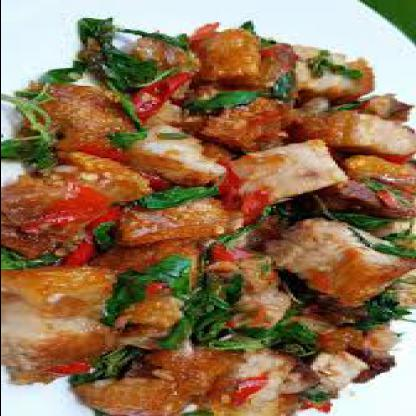Basil Rice: (2, 29, 393, 415)
